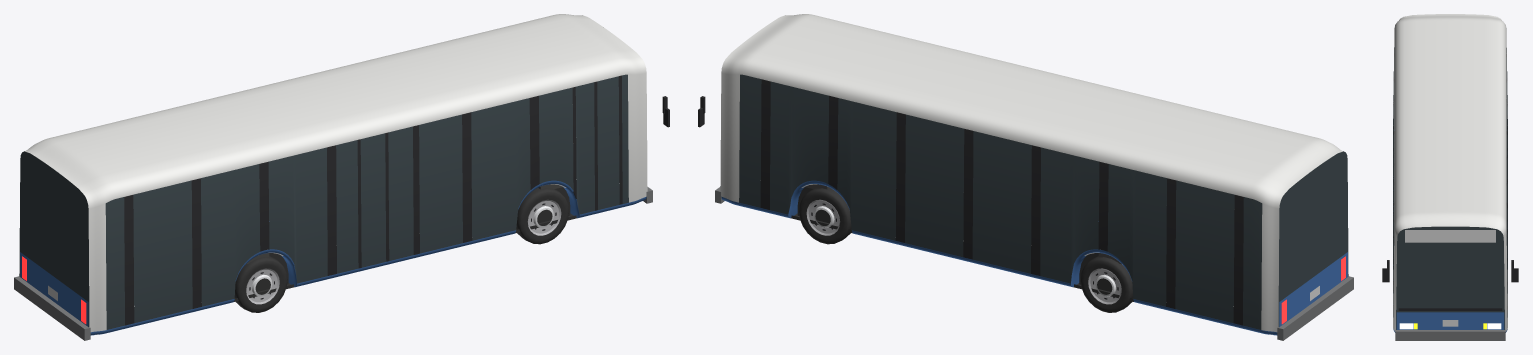
Rendered from car_bus.glb.
The picture shows the model from 3 angles, left to right: view 1: azimuth 30°, elevation 25°; view 2: azimuth 150°, elevation 25°; view 3: azimuth 270°, elevation 25°; orthographic projection. The views are drawn at different scales.
Visible parts, largest first — view 1: body, wheel_FR, wheel_RR; view 2: body, wheel_FL, wheel_RL; view 3: body.
Boxes of the visible parts, box(x1,y1,x2,y2) form: body: box(14, 14, 669, 340); wheel_FR: box(516, 188, 568, 244); wheel_RR: box(234, 256, 287, 312); body: box(698, 14, 1353, 340); wheel_FL: box(799, 188, 851, 244); wheel_RL: box(1080, 256, 1133, 312); body: box(1382, 14, 1518, 340).
Size of the model in its own units: 11.28 by 3.09 by 2.95.
